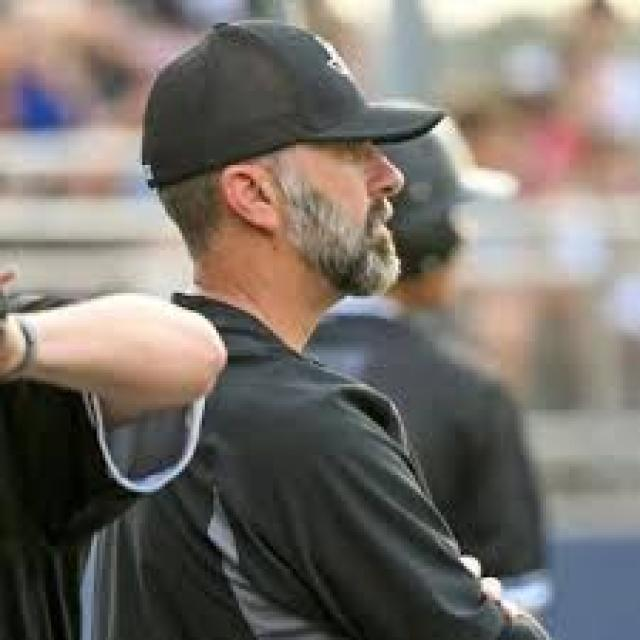cap: (108, 0, 455, 259)
